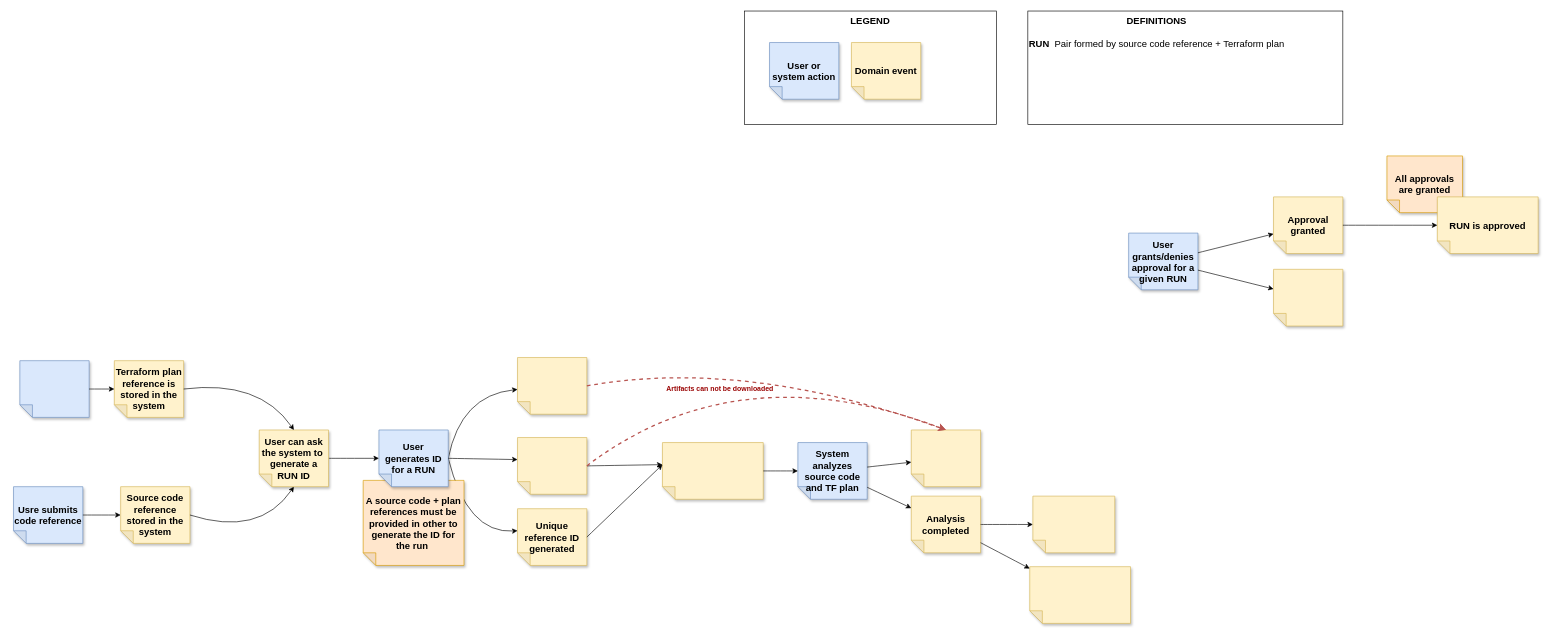
Image size: 1553x639. Some labels were removed from this diagram. Each missing label, with the centre of its shape:
Analysis failed: (946,459)
Approval denied: (1308,298)
Required grants are generated in the system: (1074,525)
RUN switched to pending state: (1080,596)
Source code and plan are available: (713,471)
Source code is ready to be downloaded: (552,466)
TF plan is ready to be downloaded: (552,386)
User provides referece to plan: (55,390)
